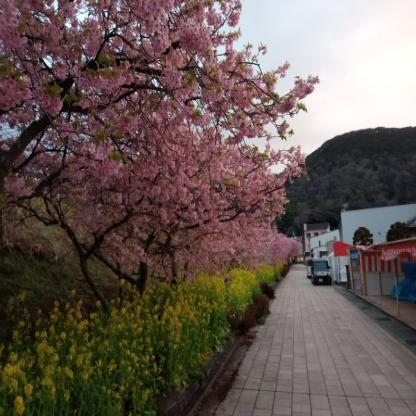KawazuSakura: (1, 0, 320, 309)
